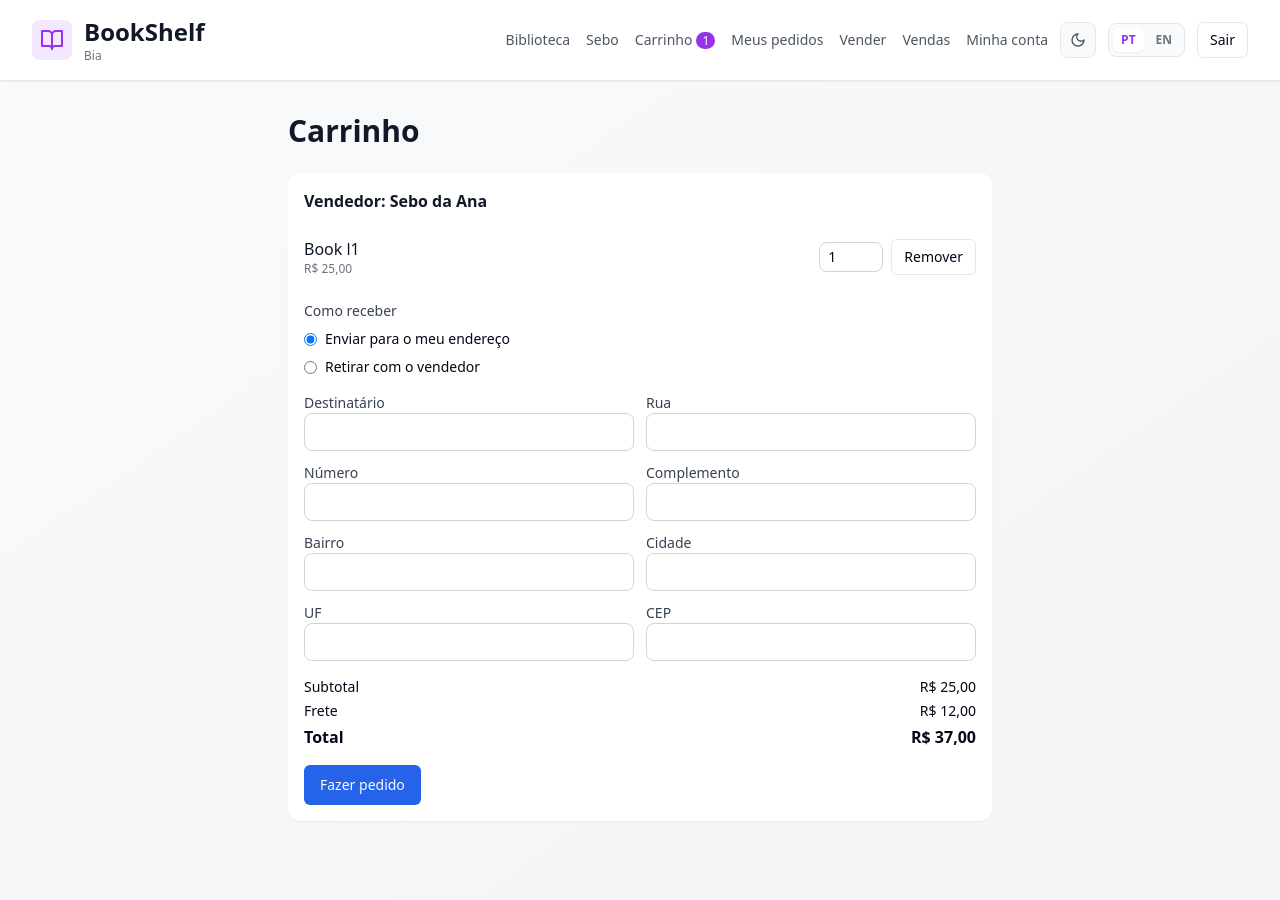
it: CartPage › changes and removes items
The image size is (1280, 900).
Replace the text in the number field with test id "cart-quantity-l1" with "2" at (851, 257), box x1=819 y1=242 x2=883 y2=272
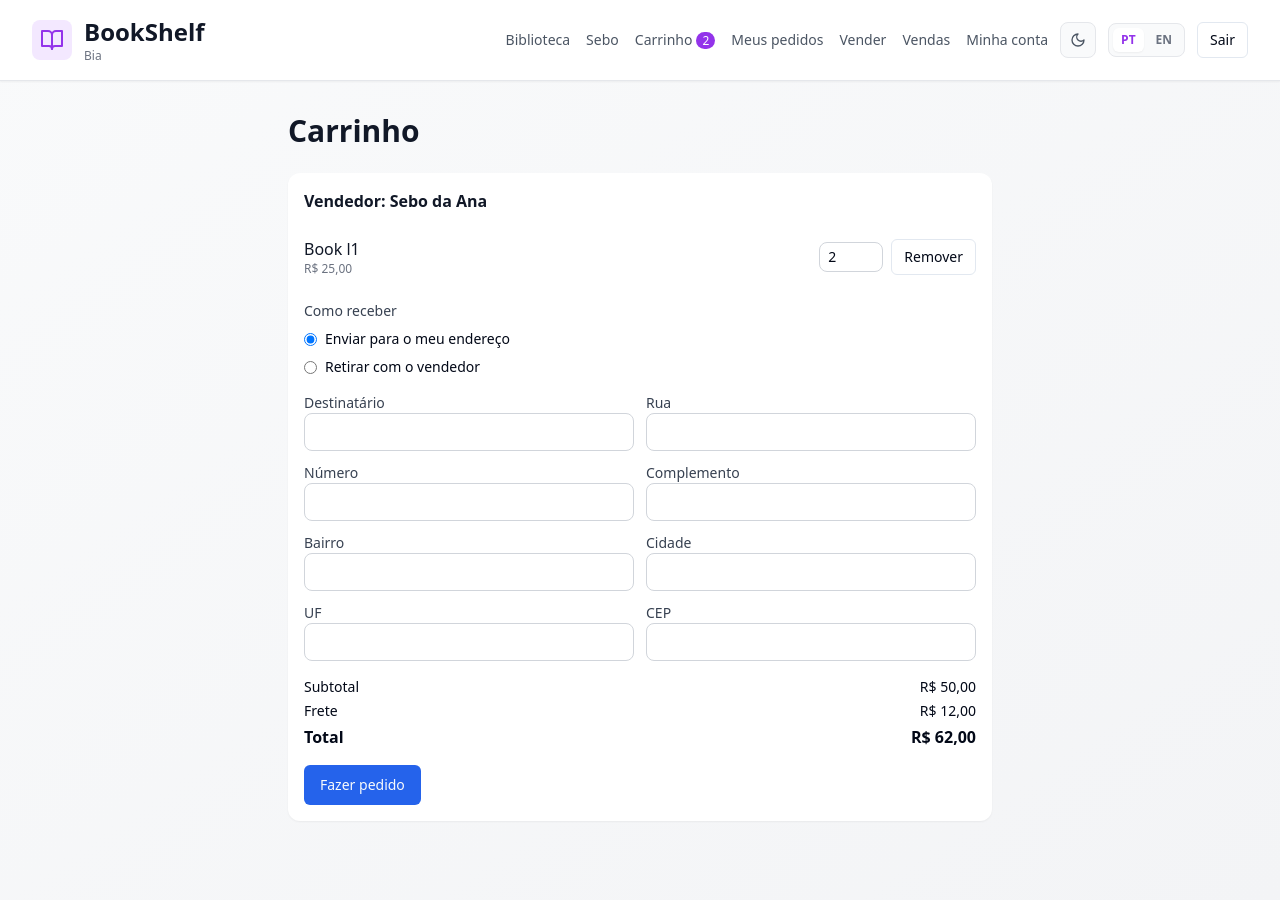
Expected: the text with test id "cart-total-seller-1" reads "R$ 62,00", x1=911 y1=726 x2=976 y2=748
Click the button with test id "cart-remove-l1" at (934, 257), box x1=891 y1=239 x2=976 y2=275
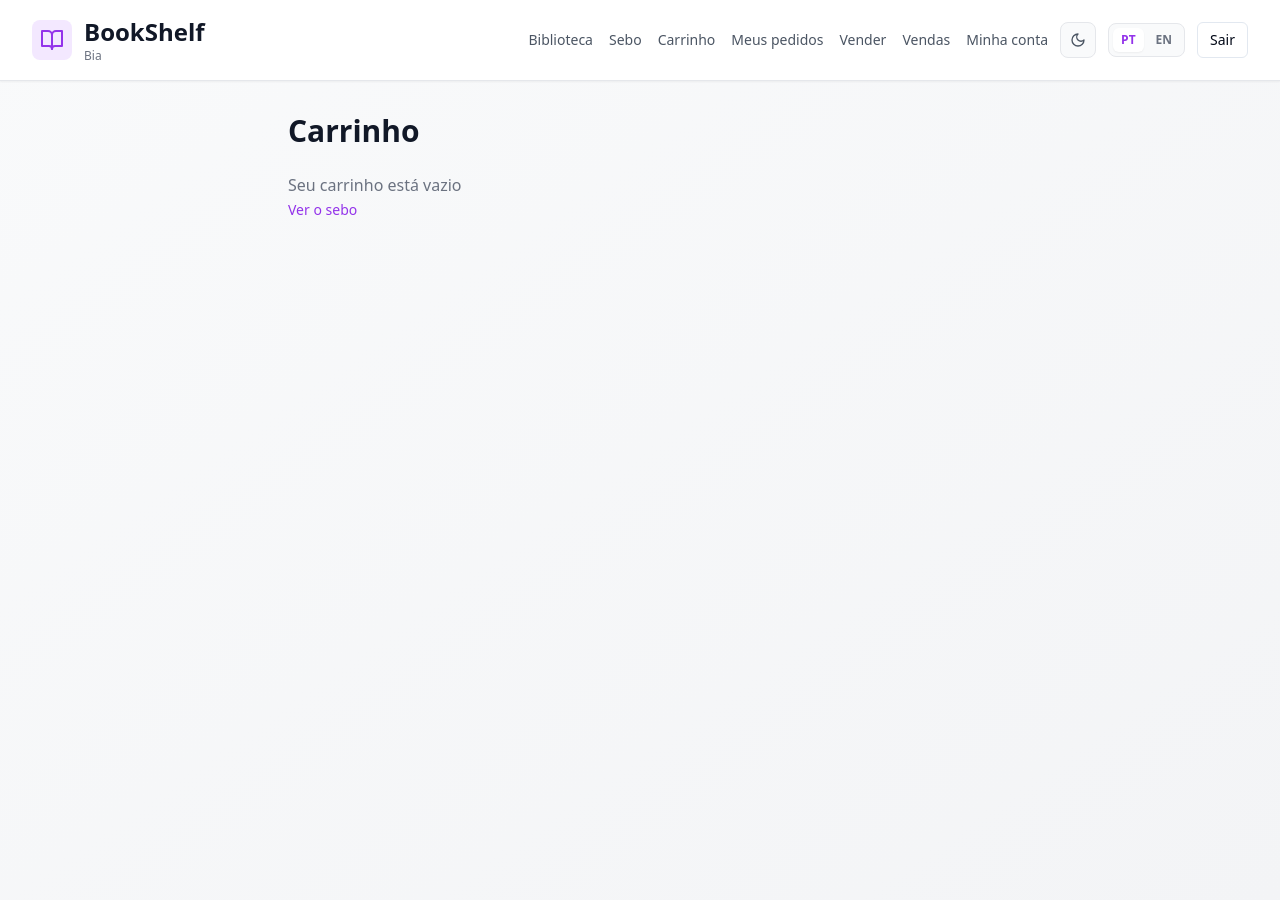
Expected: the text "Seu carrinho está vazio" is shown, x1=288 y1=174 x2=462 y2=196
